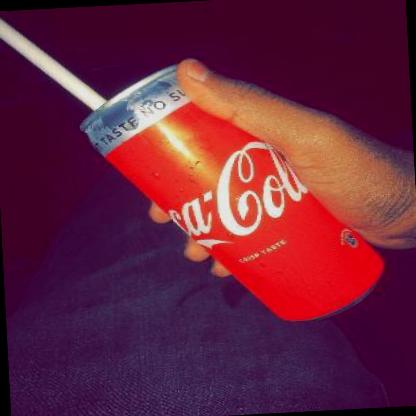alumunium_can: (78, 56, 389, 336)
